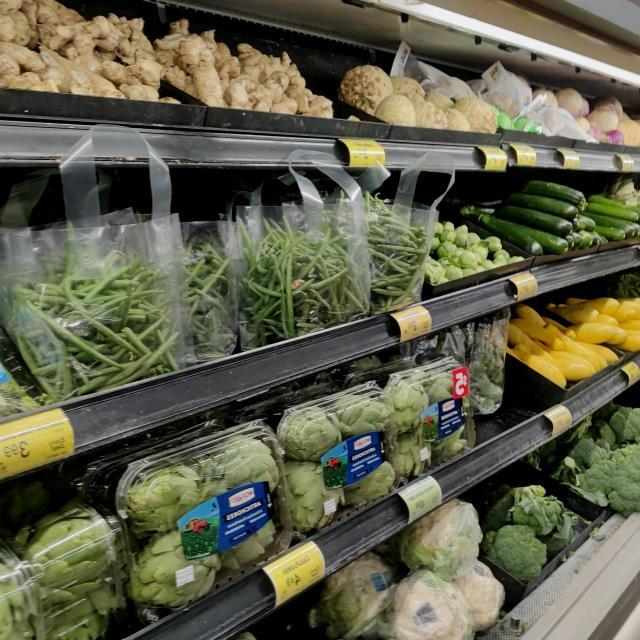broccoli: (482, 525, 546, 583), (507, 487, 558, 538), (606, 465, 640, 516), (607, 408, 640, 441)
